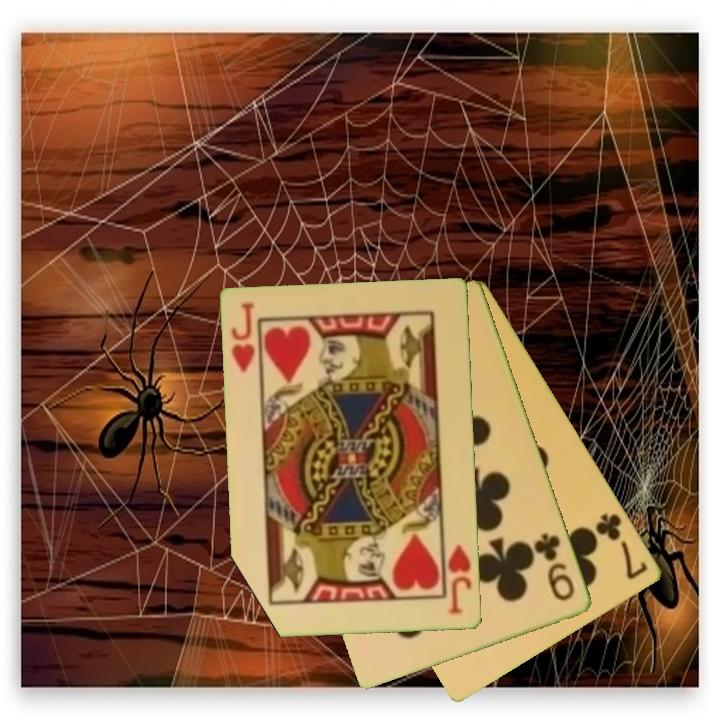7c: (592, 509, 651, 583)
9c: (531, 530, 578, 605)
Jh: (228, 300, 259, 375), (445, 541, 475, 618)
